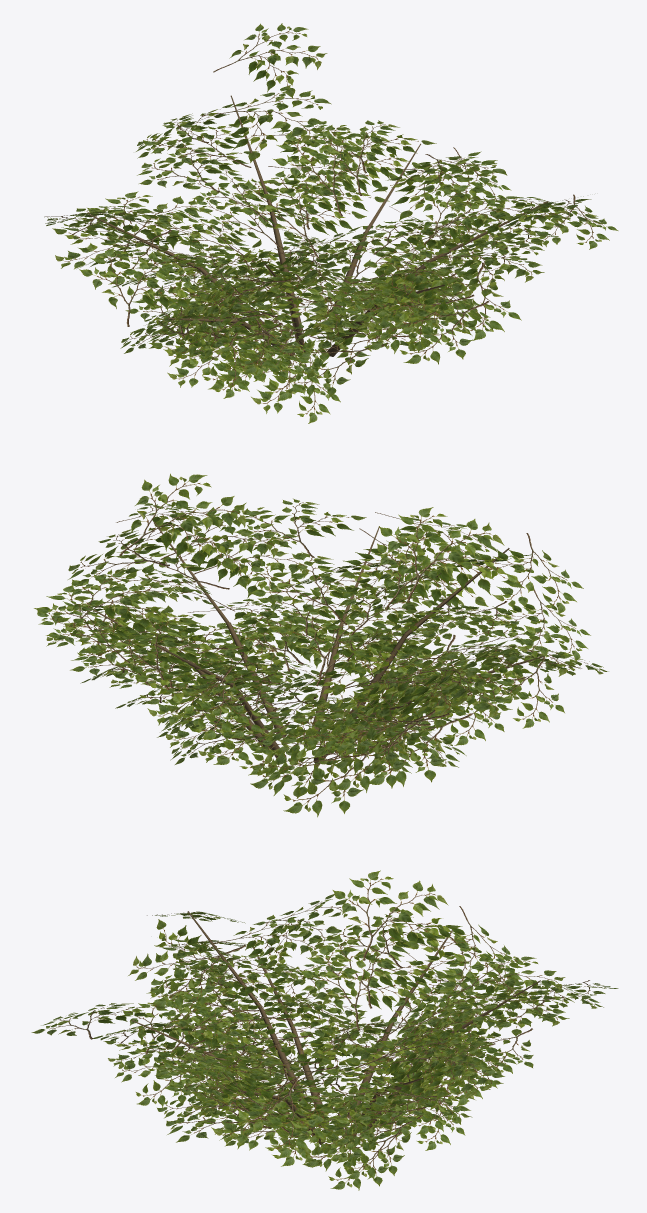
File: low_scrub.gltf
The picture shows the model from 3 angles, top to bottom: view 1: azimuth 30°, elevation 25°; view 2: azimuth 150°, elevation 25°; view 3: azimuth 270°, elevation 25°; orthographic projection. The views are drawn at different scales.
Visible parts, largest first — view 1: low_scrub; view 2: low_scrub; view 3: low_scrub.
Boxes of the visible parts, x1,y1,x2,y2 form: low_scrub: (44, 23, 618, 423); low_scrub: (34, 473, 608, 817); low_scrub: (31, 870, 618, 1190).
Bounding box in the file's own units: 2.29 × 0.8637 × 2.42.
2 materials, 1 textured.
